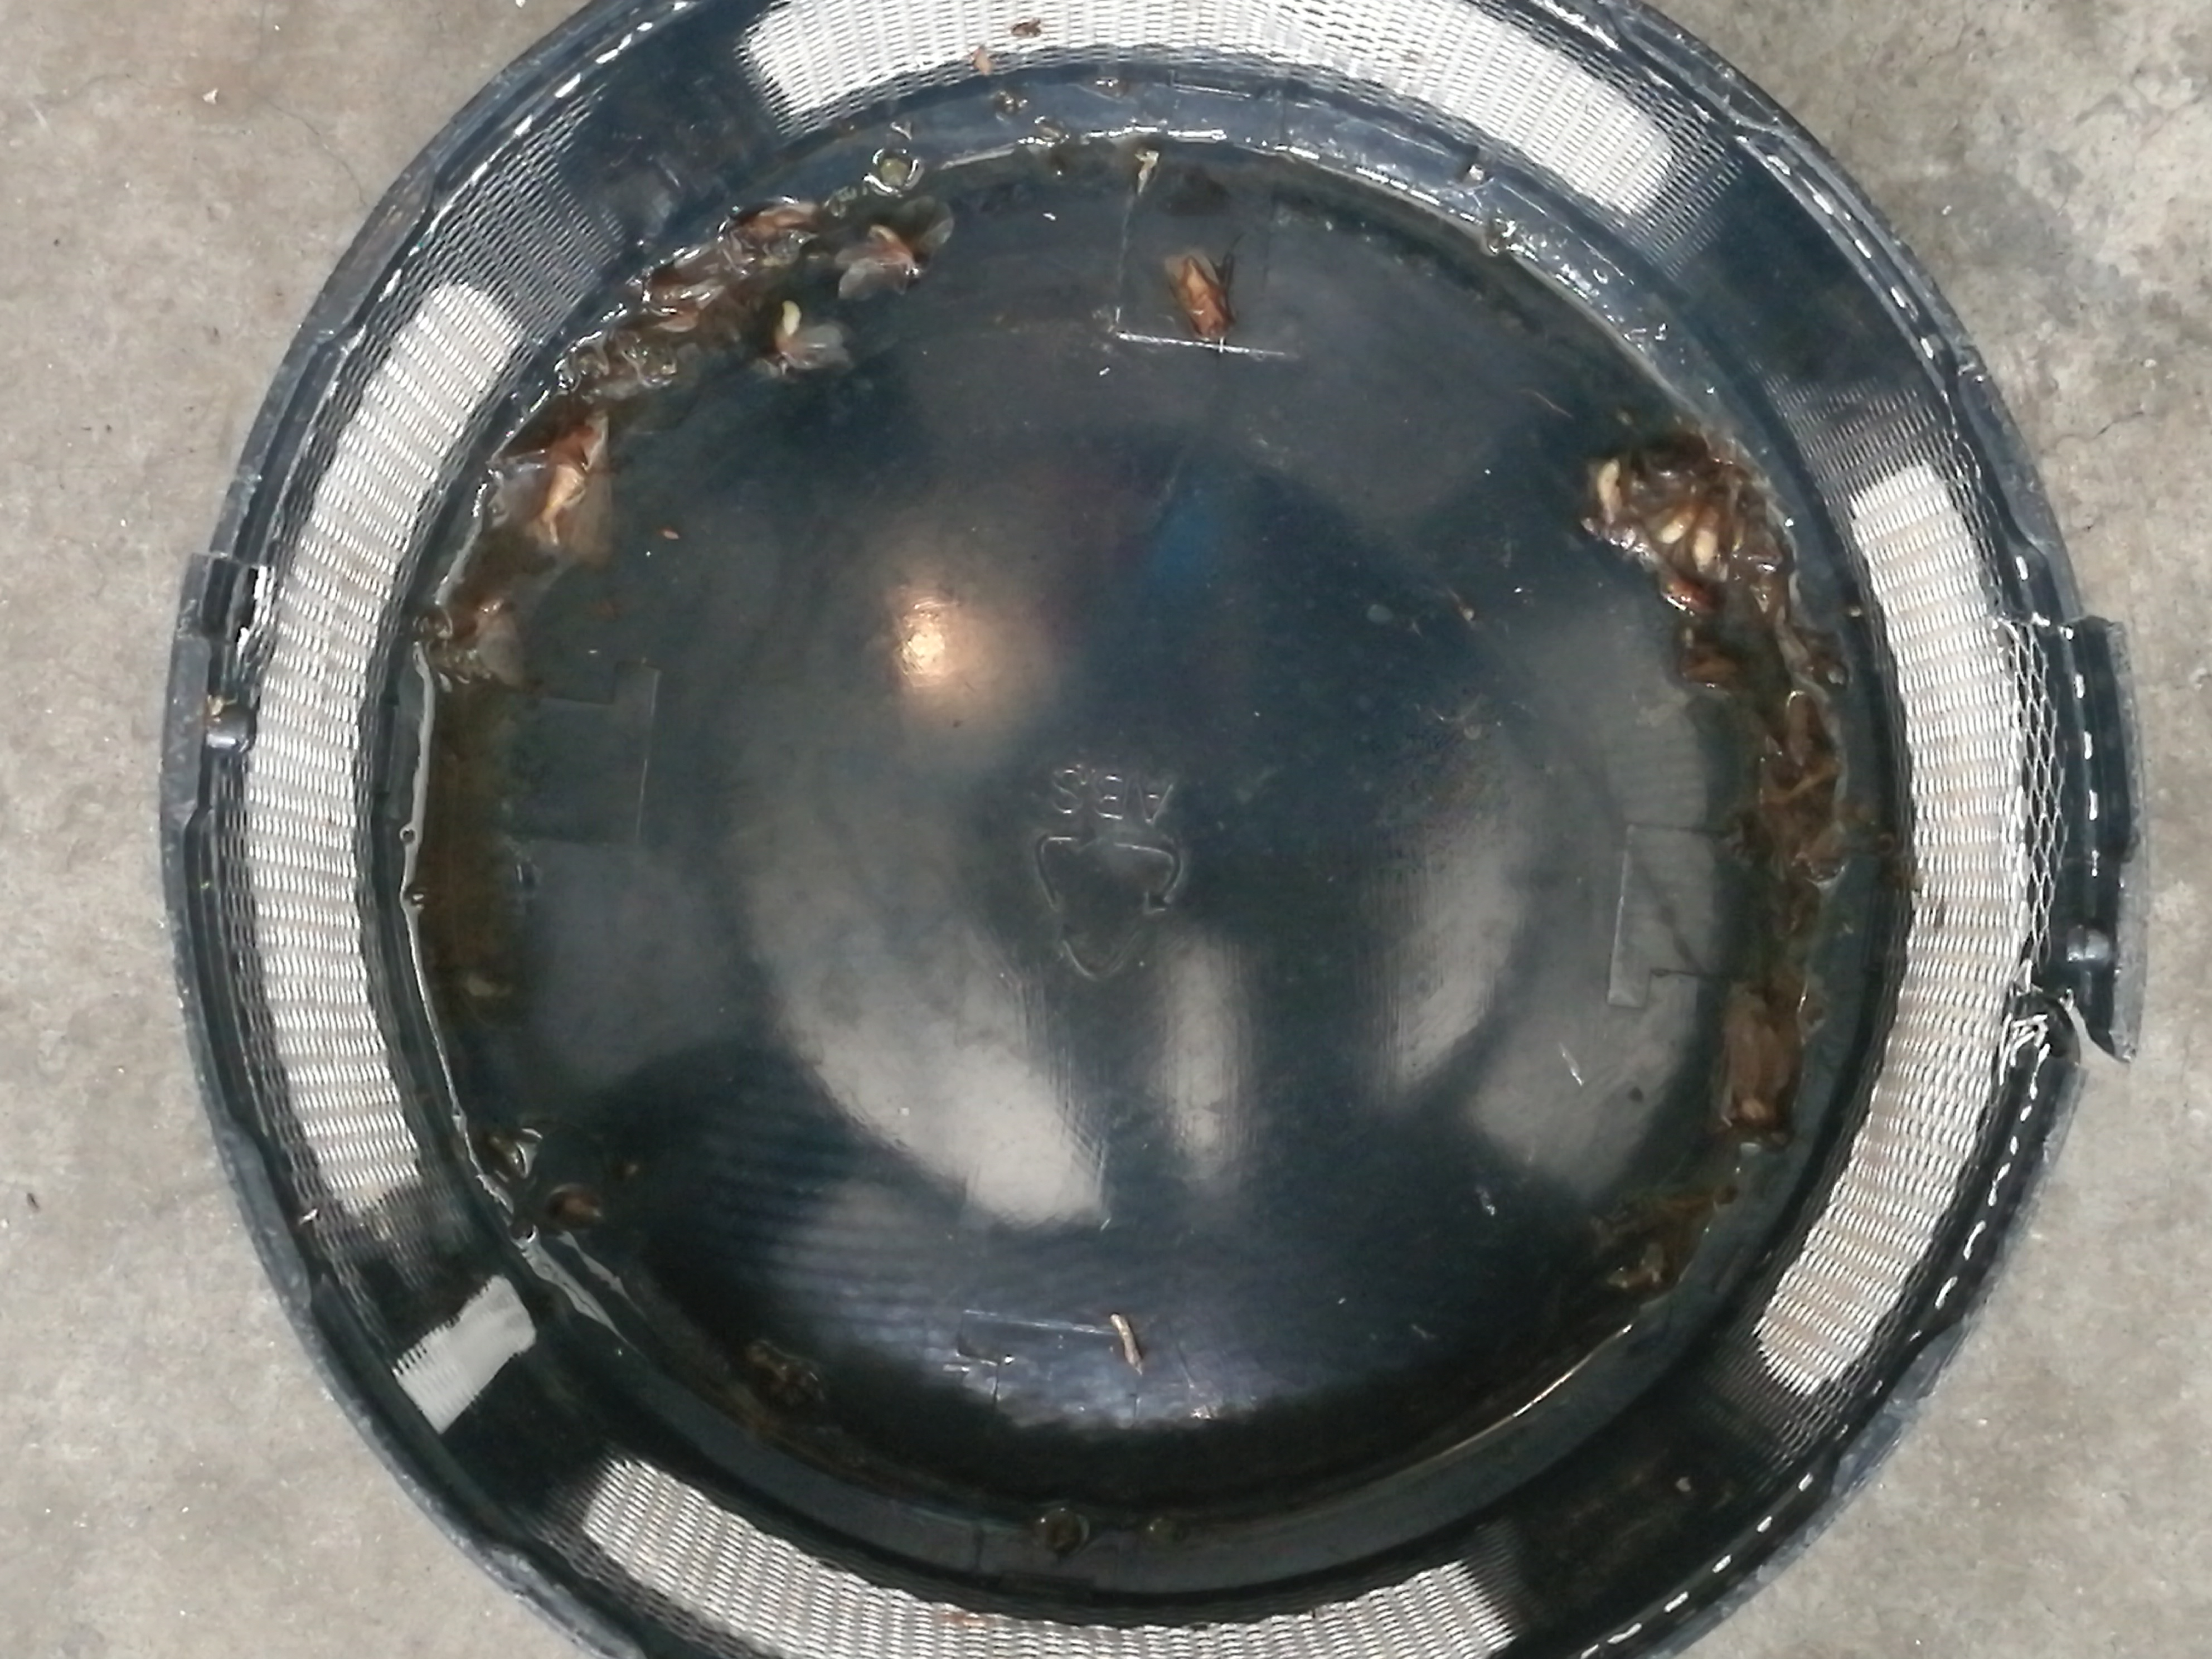moth: (482, 408, 611, 565), (838, 197, 953, 300), (1163, 246, 1233, 340)
